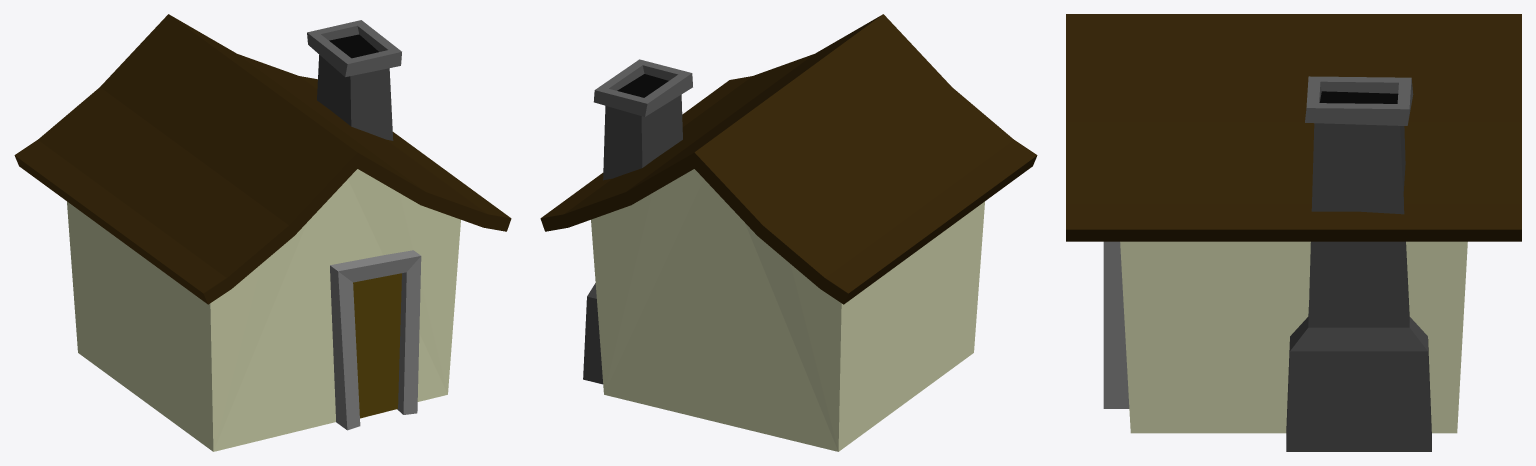
3 views of the same model, side by side, from view 1: azimuth 30°, elevation 25°; view 2: azimuth 150°, elevation 25°; view 3: azimuth 270°, elevation 25° (orthographic). The views are drawn at different scales.
Visible parts, largest first — view 1: Cube.004, Cube.005, Cube.001, Cube.002, Cube.006, Cube.007, Cube.003; view 2: Cube.005, Cube.004, Cube.006, Cube.007, Cube.003; view 3: Cube.004, Cube.005, Cube.006, Cube.007, Cube.001, Cube.003.
Part boxes in pixels (<box>): Cube.004: <box>14,14,511,304</box>; Cube.005: <box>67,169,460,451</box>; Cube.001: <box>330,250,421,430</box>; Cube.002: <box>353,273,401,418</box>; Cube.006: <box>317,54,393,140</box>; Cube.007: <box>307,20,401,77</box>; Cube.003: <box>329,34,378,58</box>; Cube.005: <box>591,169,984,451</box>; Cube.004: <box>540,14,1037,304</box>; Cube.006: <box>583,94,682,384</box>; Cube.007: <box>593,59,692,116</box>; Cube.003: <box>617,74,668,97</box>; Cube.004: <box>1066,14,1521,241</box>; Cube.005: <box>1120,241,1467,433</box>; Cube.006: <box>1286,123,1431,451</box>; Cube.007: <box>1305,76,1413,125</box>; Cube.001: <box>1103,241,1129,408</box>; Cube.003: <box>1319,91,1398,103</box>.
Size of the model in its own units: 3.58 by 3.23 by 3.81.
